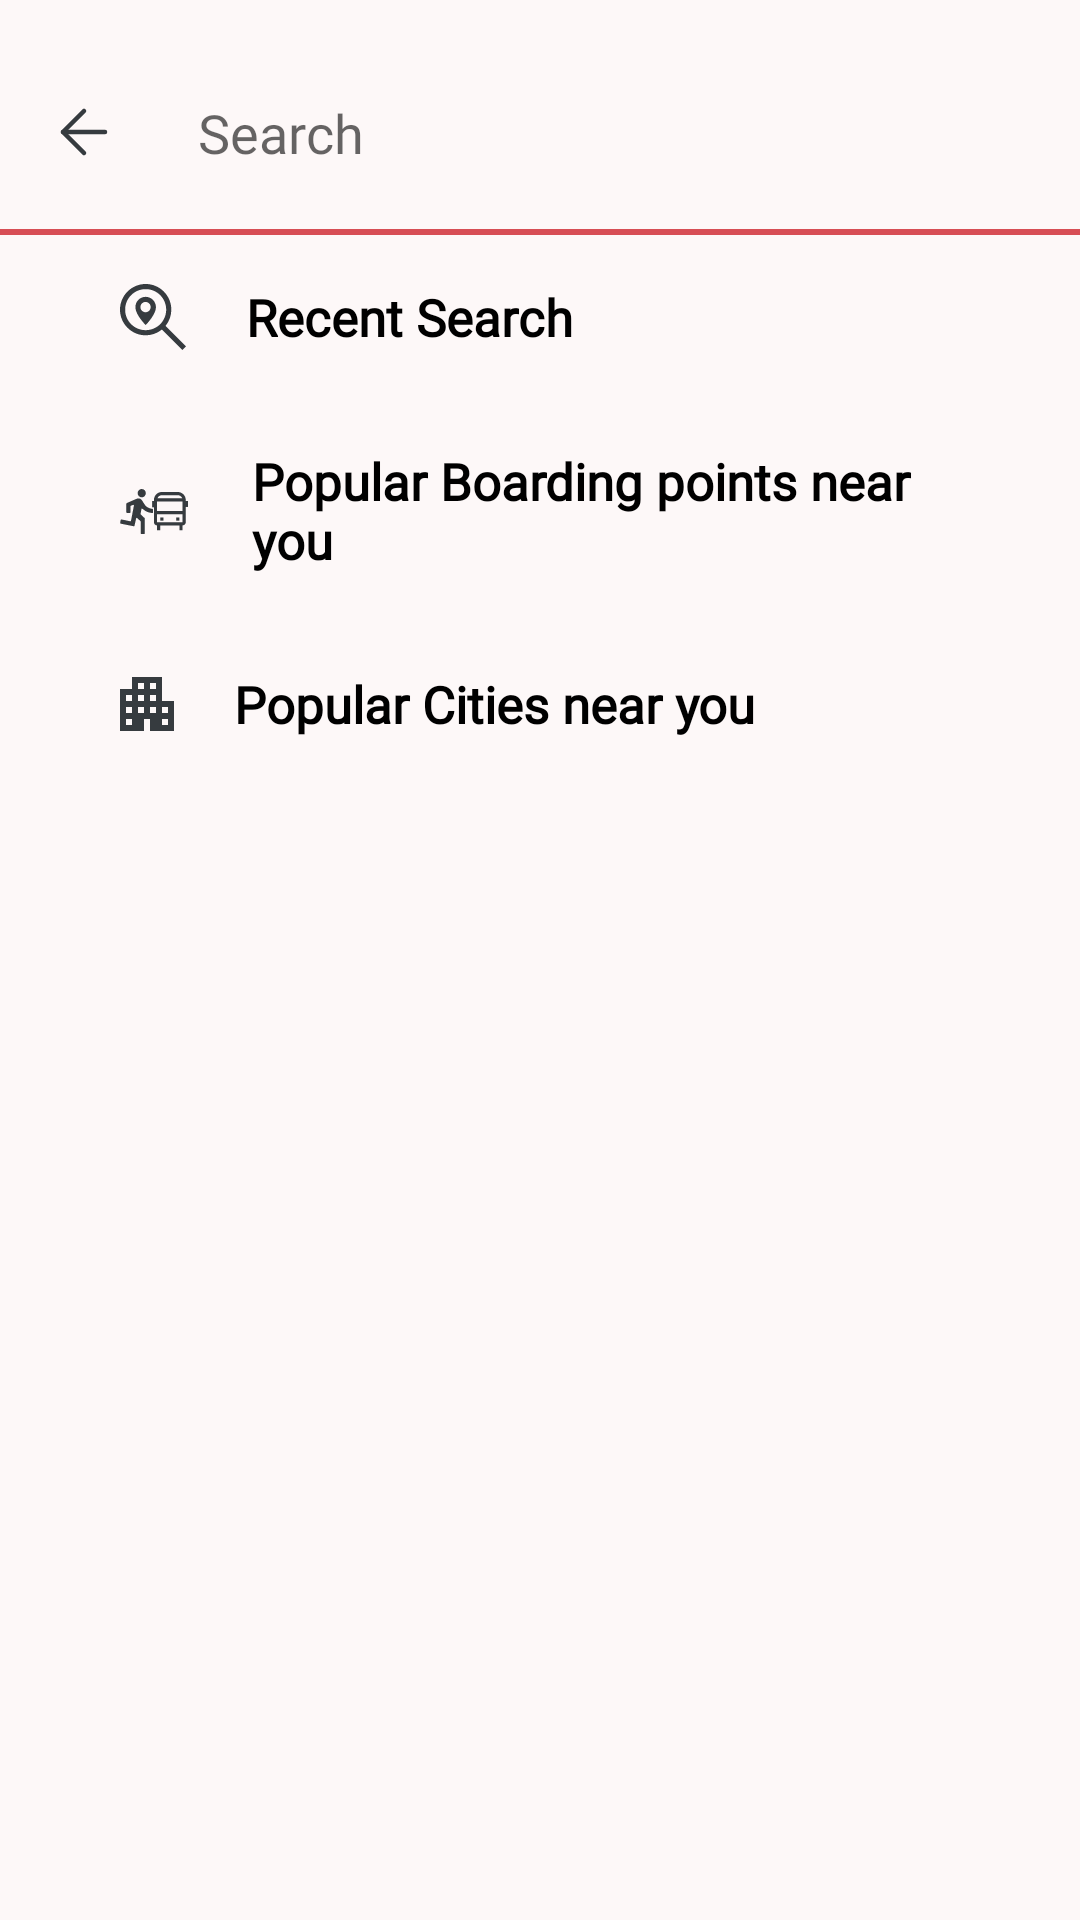

Where icons sit on this 1080 x 1920 app screen, as bbox=(x1, y1, x2, y2):
back arrow: bbox=(60, 108, 107, 156)
